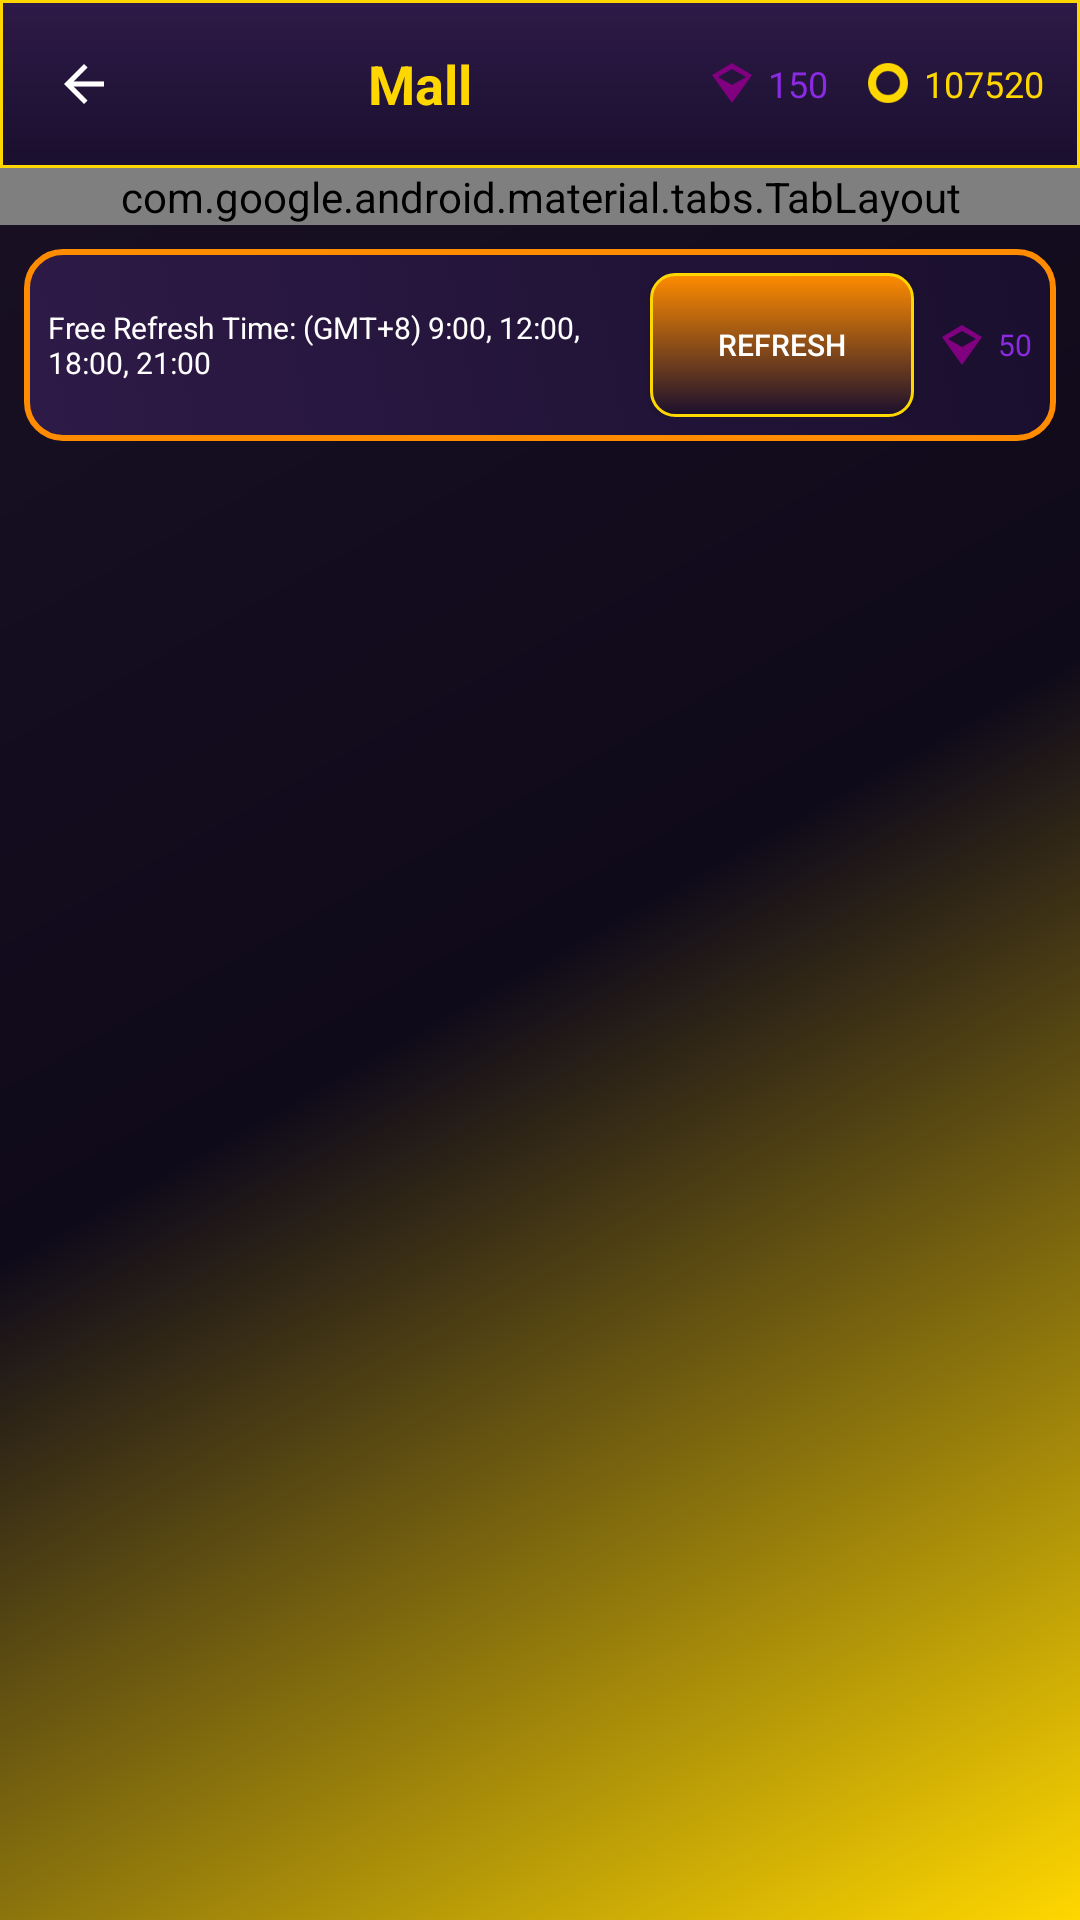

Where icons sit on this 1080*1920 app screen, as (x1, y1, x2, y2):
back arrow: (64, 64, 104, 104)
gem: (712, 63, 752, 103), (942, 325, 982, 365)
gold: (868, 63, 908, 103)
